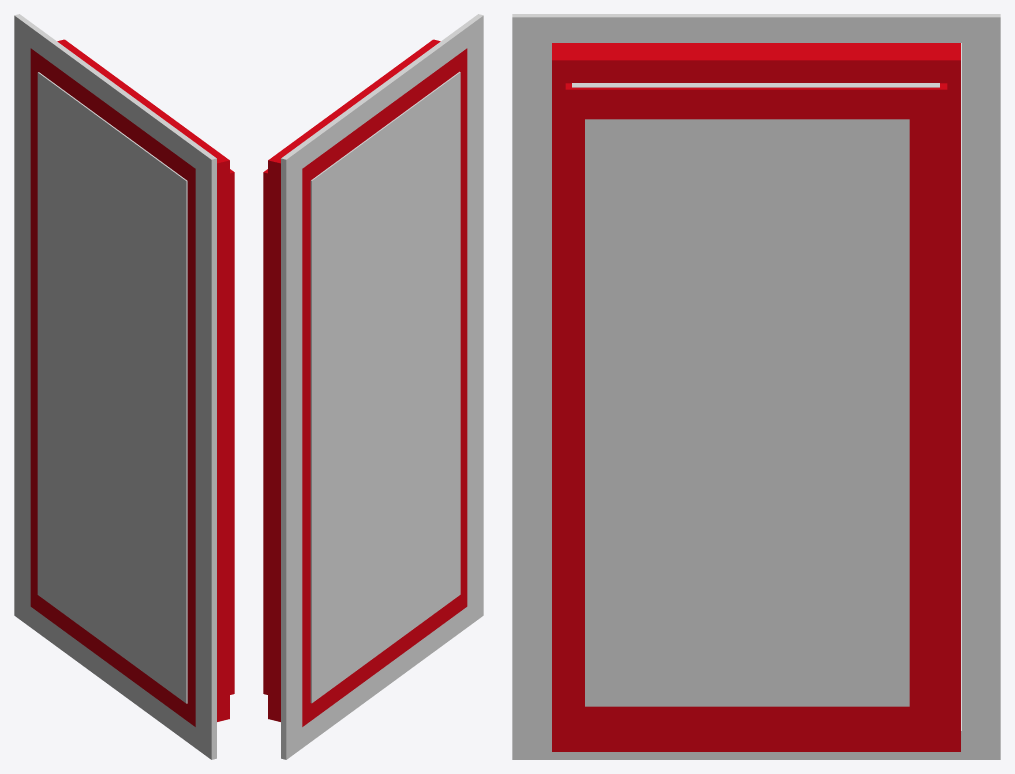
The model's file is window.fbx.
3 views of the same model, side by side, from view 1: azimuth 30°, elevation 25°; view 2: azimuth 150°, elevation 25°; view 3: azimuth 270°, elevation 25° (orthographic). The views are drawn at different scales.
Parts seen in each view (by area): view 1: Cube.001, Cube, Cube.002; view 2: Cube.001, Cube, Cube.002; view 3: Cube.001, Cube.002, Cube.
Part boxes in pixels (x1,y1,x2,y2): Cube.001: (37, 72, 187, 703); Cube: (14, 14, 216, 759); Cube.002: (30, 39, 234, 726); Cube.001: (310, 71, 460, 703); Cube: (281, 14, 483, 759); Cube.002: (263, 39, 467, 726); Cube.001: (572, 83, 939, 706); Cube.002: (552, 43, 960, 751); Cube: (512, 14, 1000, 759).
Bounding box in the file's own units: 9.44 × 70.43 × 118.
